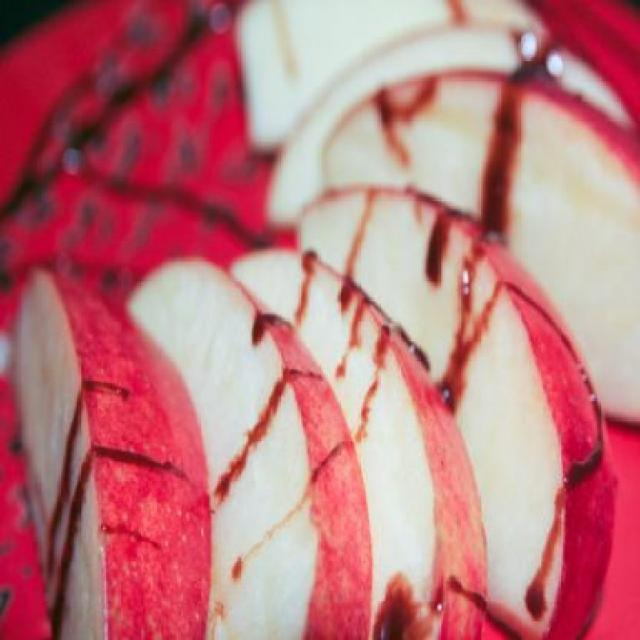Apple pie: (116, 0, 638, 638), (7, 266, 211, 640)
